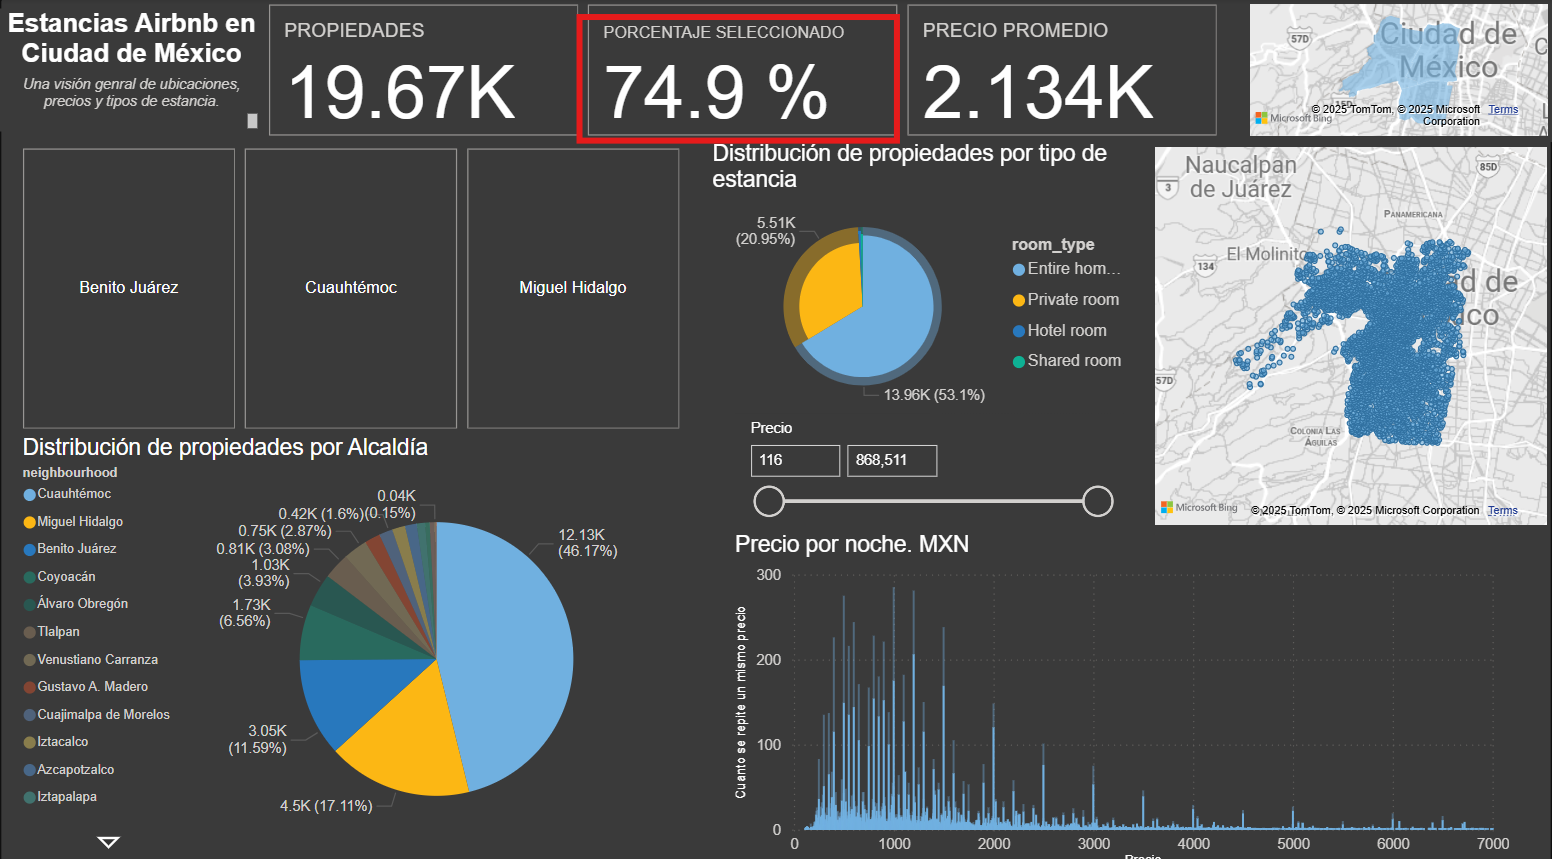

This screenshot's page, from the dashboard's own definition file:
{"tool":"powerbi","page":{"name":"Dashboard","canvas":[1280,720],"ordinal":0},"visuals":[{"type":"advancedSlicerVisual","fields":{"Values":["Sheet1.neighbourhood"]},"box":[13.7,118,553,241.5],"z":0},{"type":"map","fields":{"Y":["Sheet1.latitude"],"X":["Sheet1.longitude"]},"box":[946.2,117.6,333.9,321.7],"z":1000},{"type":"filledMap","fields":{"Category":["Sheet1.Mapa_Alcaldia"]},"box":[1024.4,0,256.4,118.6],"z":2000},{"type":"pieChart","title":"Distribución de propiedades por Alcaldía","fields":{"Category":["Sheet1.neighbourhood"],"Y":["CountNonNull(Sheet1.neighbourhood)"]},"box":[13.7,359.5,553,348.6],"z":3000},{"type":"cardVisual","title":"propiedades","fields":{"Data":["Sheet1.TOTAL PROPIEDADES","Sheet1.PercentageSelected","Sheet1.PROMEDIO PRECIOS"]},"box":[216.7,0,791.7,118.3],"z":4000},{"type":"pieChart","title":"Distribución de propiedades por tipo de estancia","fields":{"Category":["Sheet1.room_type"],"Y":["CountNonNull(Sheet1.room_type)"]},"box":[582.6,117.6,363.6,231.1],"z":5000},{"type":"textbox","title":"Estancias Airbnb en Ciudad de México","box":[0,8.2,216.8,101.6],"z":6000},{"type":"columnChart","title":"Precio por noche. MXN","fields":{"Category":["Sheet1.price"],"Y":["CountNonNull(Sheet1.price)"]},"box":[600.2,439.3,647.5,281.2],"z":7000},{"type":"slicer","fields":{"Values":["Sheet1.price"]},"box":[605.6,342,320.4,97.3],"z":8000}]}

Visuals, with their boxes in screenshot pixels (x1, y1, x2, y2), scaled from the page's 1280x720 canvas onto the 1552x859 screenshot:
advancedSlicerVisual - Sheet1.neighbourhood: BBox(17, 141, 687, 429)
map - Sheet1.latitude x Sheet1.longitude: BBox(1147, 140, 1551, 524)
filledMap - Sheet1.Mapa_Alcaldia: BBox(1242, 0, 1551, 141)
"Distribución de propiedades por Alcaldía" pieChart: BBox(17, 429, 687, 845)
"propiedades" cardVisual: BBox(263, 0, 1223, 141)
"Distribución de propiedades por tipo de estancia" pieChart: BBox(706, 140, 1147, 416)
"Estancias Airbnb en Ciudad de México" textbox: BBox(0, 10, 263, 131)
"Precio por noche. MXN" columnChart: BBox(728, 524, 1513, 858)
slicer - Sheet1.price: BBox(734, 408, 1123, 524)
